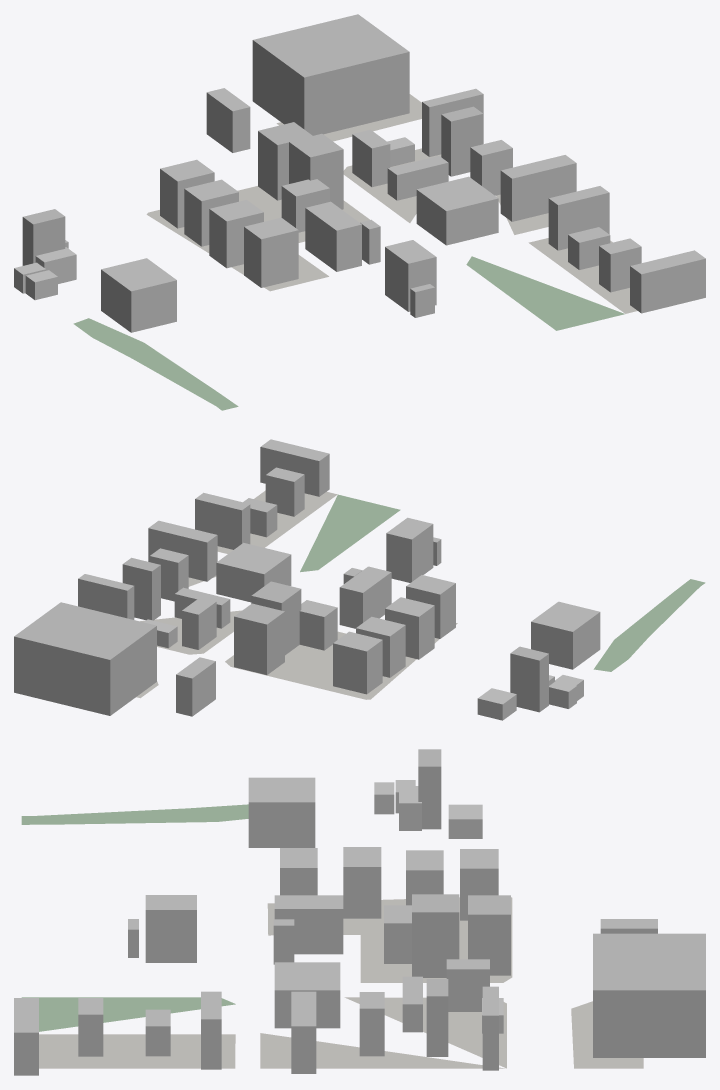
The model's file is 126_77_mid.glb.
3 renders of one model, top to bottom at view 1: azimuth 30°, elevation 25°; view 2: azimuth 150°, elevation 25°; view 3: azimuth 270°, elevation 25°, orthographic. The views are drawn at different scales.
Size of the model in its own units: 520 by 60.07 by 556.
